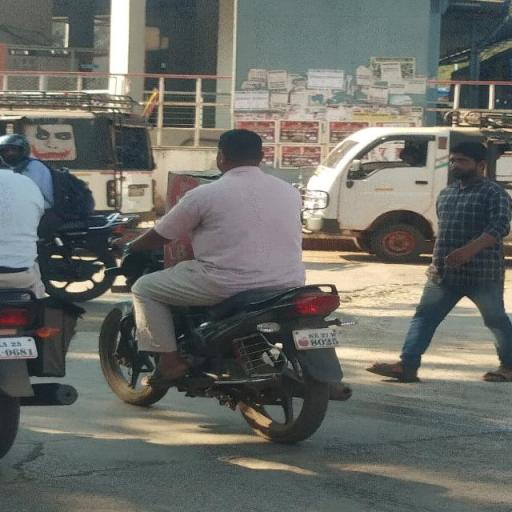bike: (91, 118, 358, 450)
numberplate: (291, 322, 346, 352)
withouthelmet: (218, 129, 263, 168)
